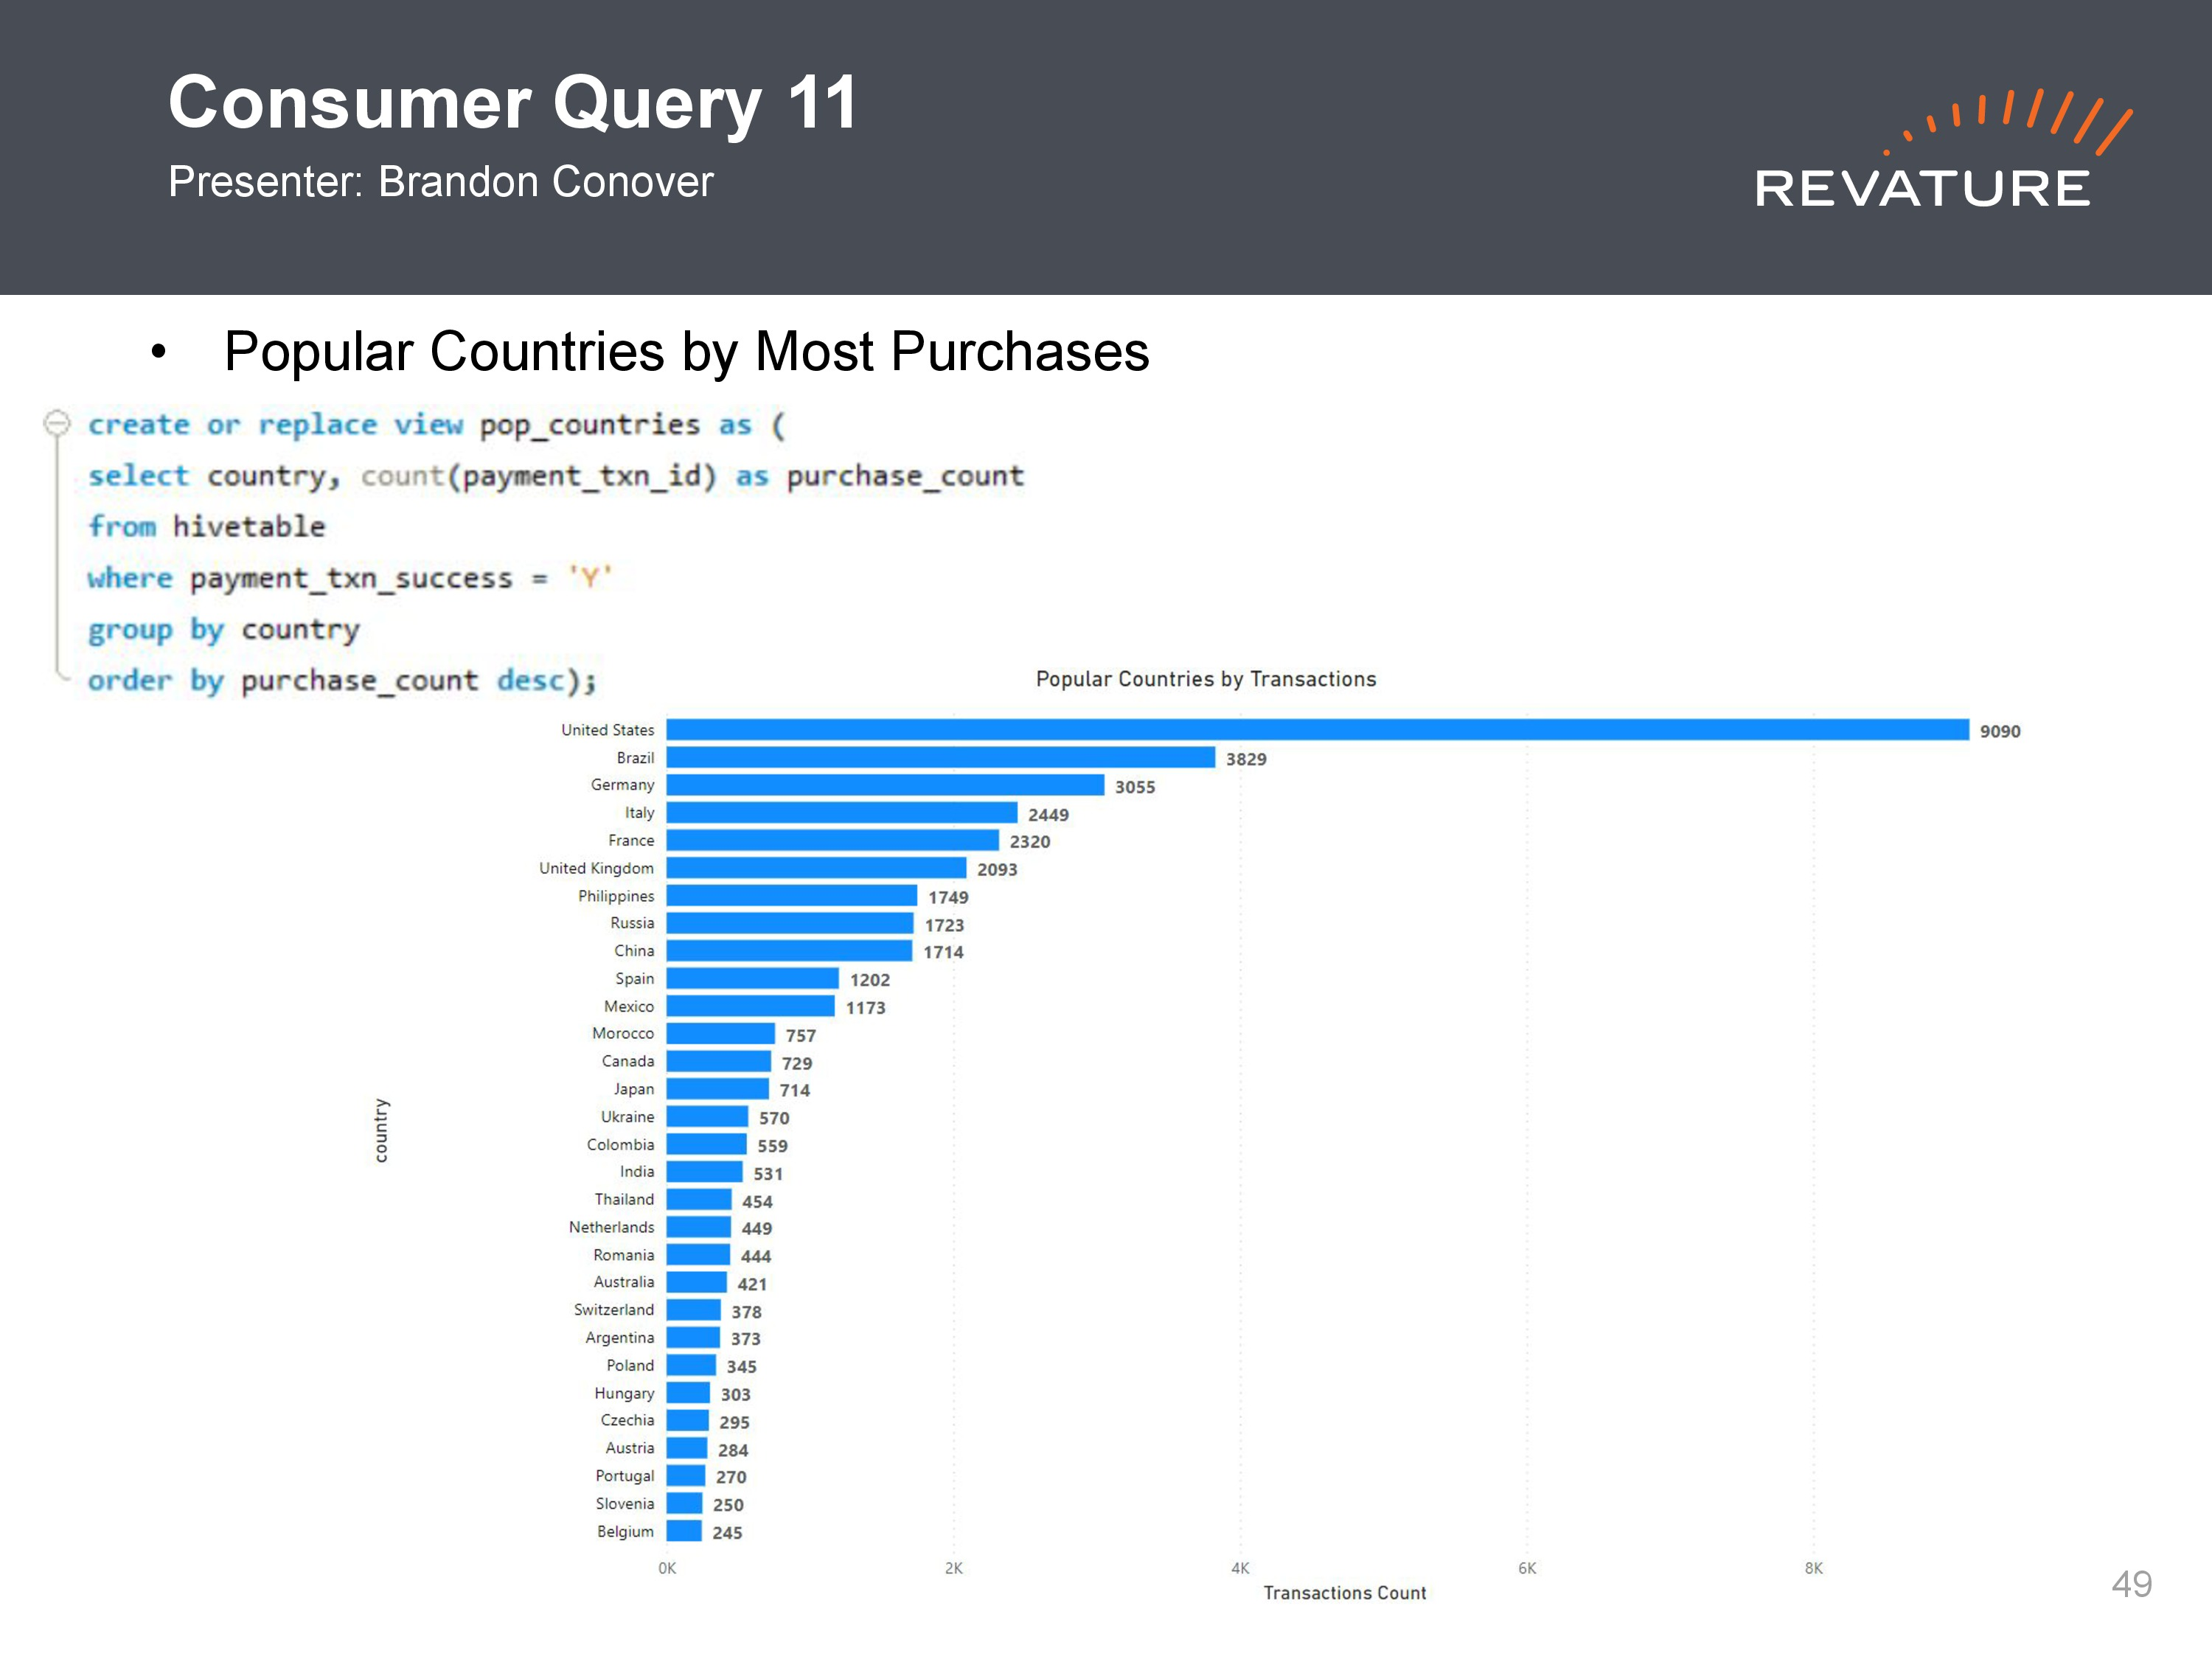

What the dashboard file says about the page in this screenshot:
{"tool":"powerbi","page":{"name":"pop_countries","canvas":[1280,720],"ordinal":8},"visuals":[{"type":"clusteredBarChart","title":"Popular Countries by Transactions","fields":{"Category":["proj3 pop_countries.country"],"Y":["Sum(proj3 pop_countries.purchase_count)"]},"box":[10.5,9.4,1269.2,710.6],"z":0}]}

Visuals, with their boxes on the page's 1280x720 design canvas (x1, y1, x2, y2). These are canvas units, not pixel positions in the 2212x1659 screenshot, which may show the page scaled, cropped or inside an application window:
"Popular Countries by Transactions" clusteredBarChart: left=10, top=9, right=1280, bottom=720
